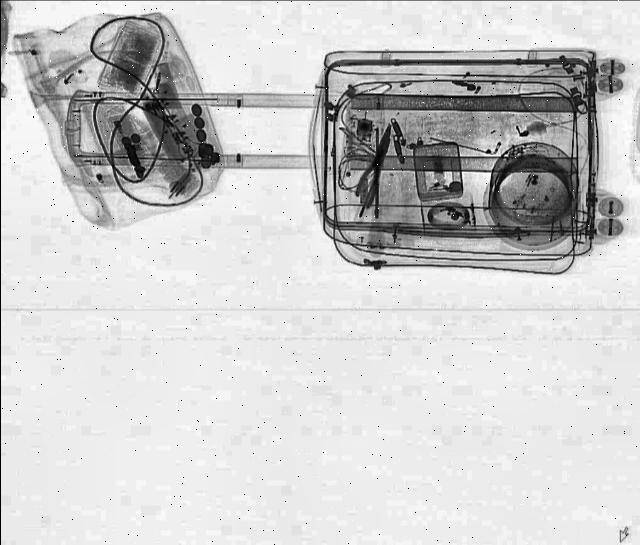Pliers: (347, 122, 399, 210)
